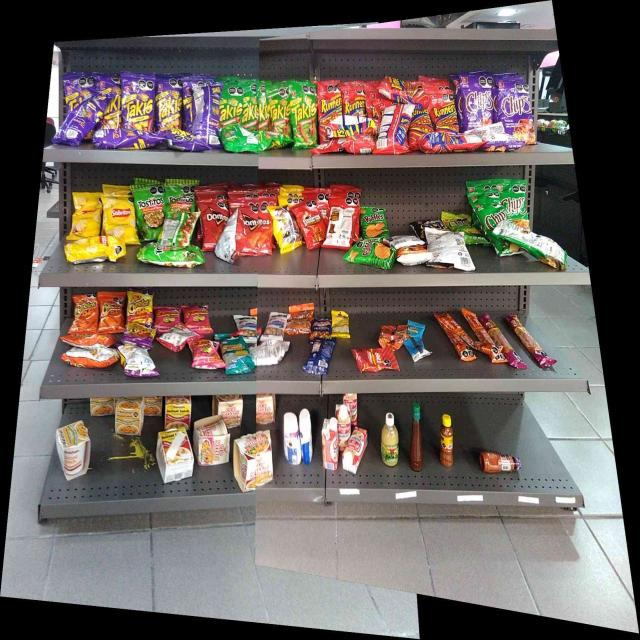bitzEnchilado90: (355, 348, 394, 370)
bitzEnchilado95: (440, 313, 462, 337), (453, 342, 473, 362), (464, 309, 481, 332)
bitzHabanero: (527, 338, 556, 371), (506, 312, 532, 336), (484, 312, 501, 338)
bokadosCacahuates: (312, 317, 330, 339)
botaneraChilito: (440, 414, 454, 468)
cheetosFlaminHot: (127, 290, 151, 324)
cheetosOriginal: (100, 292, 122, 331), (74, 295, 96, 333)
chipsFuego: (461, 74, 494, 124), (507, 83, 534, 144)
chipsJalapeno: (503, 189, 530, 228)
churrumais: (195, 341, 218, 370), (186, 305, 210, 331), (157, 307, 178, 327)
delPrimoSalsa: (382, 414, 398, 466)
doritosNacho: (242, 208, 269, 254), (201, 200, 228, 228)
hotNutsOriginal: (398, 245, 432, 269)
leoCacahuates: (268, 313, 284, 338), (247, 315, 257, 344)
leoMix: (289, 306, 310, 333)
maruchanPollo: (57, 424, 89, 476), (114, 407, 140, 435)
maruchanRes: (159, 432, 188, 479), (165, 404, 190, 428)
nestleCarnation: (322, 418, 336, 471), (351, 426, 367, 455), (338, 404, 349, 442)
nestleLechera: (284, 414, 298, 464), (300, 410, 311, 464)
nissinRes: (236, 435, 272, 483), (193, 422, 229, 464)
productoAtras: (528, 231, 568, 271), (195, 86, 220, 136), (64, 104, 92, 148), (384, 105, 407, 156), (434, 229, 463, 269), (421, 133, 480, 152), (270, 207, 291, 252), (64, 349, 116, 367), (331, 204, 352, 248), (121, 346, 151, 376), (223, 126, 256, 152), (166, 216, 194, 246), (218, 230, 238, 263), (252, 345, 282, 367), (310, 342, 328, 374), (380, 324, 405, 347), (483, 127, 506, 150), (158, 332, 184, 350), (407, 338, 425, 358)
rancheritos: (296, 205, 324, 246)
rufflesQueso: (355, 240, 387, 267), (362, 206, 388, 237)
runners: (432, 90, 457, 131), (319, 82, 342, 124), (382, 77, 420, 101), (344, 87, 366, 121), (412, 109, 430, 132)
sabritasOriginal: (67, 237, 122, 261), (104, 193, 133, 234), (76, 194, 100, 234)
salsaBufalo: (412, 403, 422, 472)
semillasCalabaza: (332, 310, 349, 337)
semillasGirasol: (221, 333, 245, 374)
tajinDulce: (479, 451, 522, 472)
takisFuego: (123, 77, 154, 131), (156, 78, 182, 125), (106, 78, 120, 128), (64, 81, 90, 102)
takisOriginal: (293, 85, 317, 148), (272, 92, 291, 135), (222, 85, 240, 124), (242, 88, 258, 130), (259, 92, 270, 132)
tostitos: (139, 250, 202, 267), (136, 190, 163, 228), (166, 186, 194, 214)
